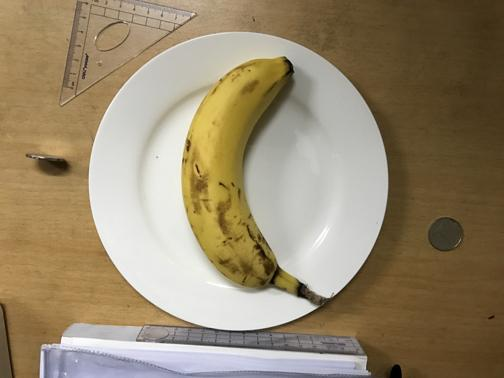banana: (178, 58, 304, 293)
coin: (425, 216, 465, 252)
